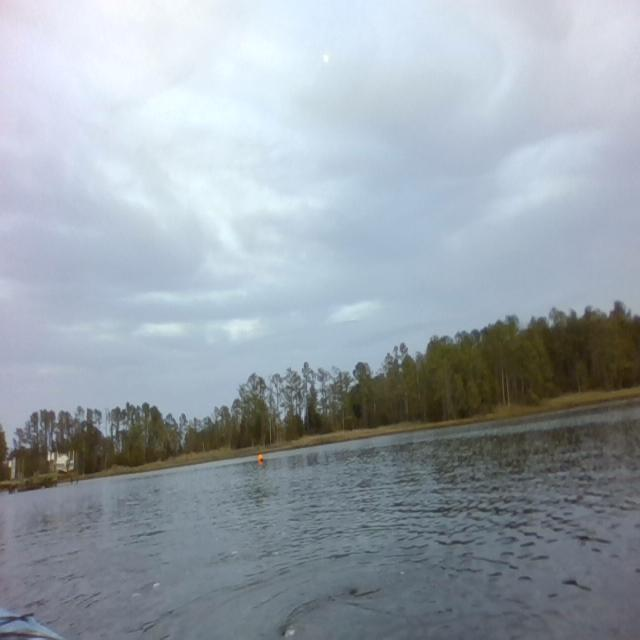Buoy: (257, 452, 264, 464)
